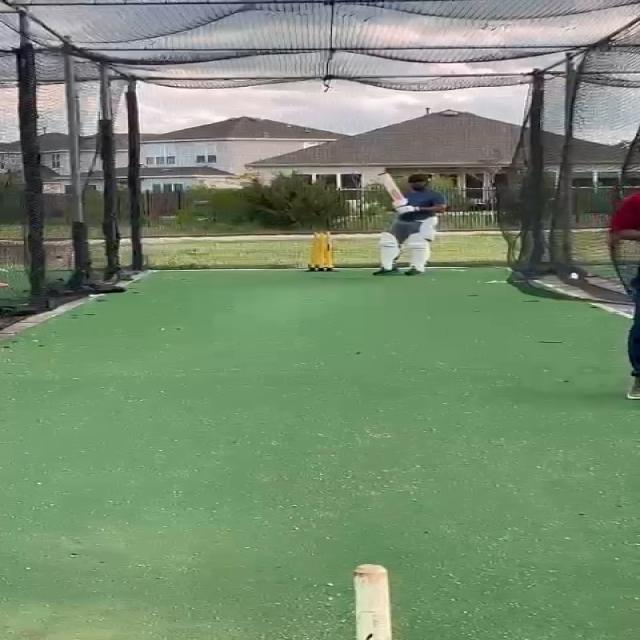batsman: (371, 170, 449, 276)
